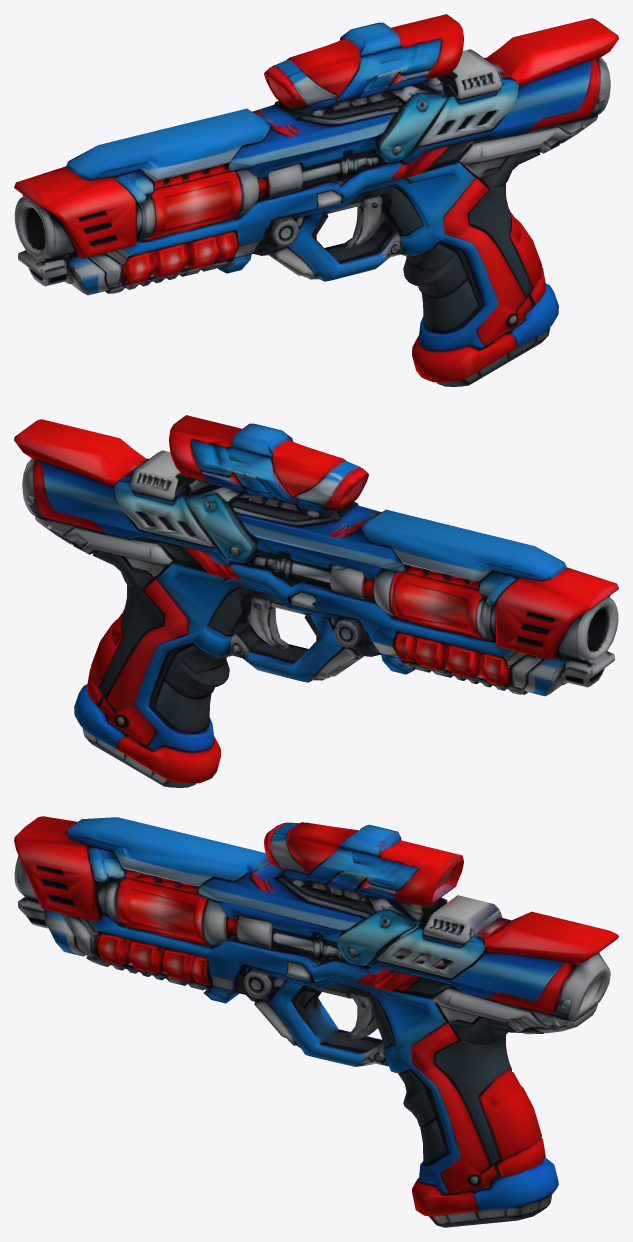
File: space-age-pistol.glb
3 views of the same model, one above another, from view 1: azimuth 30°, elevation 25°; view 2: azimuth 150°, elevation 25°; view 3: azimuth 330°, elevation 25° (orthographic).
Parts seen in each view (by area): view 1: material; view 2: material; view 3: material.
Part boxes in pixels (bbox=[...]): material: bbox=[14, 14, 618, 386]; material: bbox=[14, 415, 618, 787]; material: bbox=[14, 816, 618, 1227].
Size of the model in its own units: 1.9 by 1.16 by 0.2598.
1 material, 1 textured.
